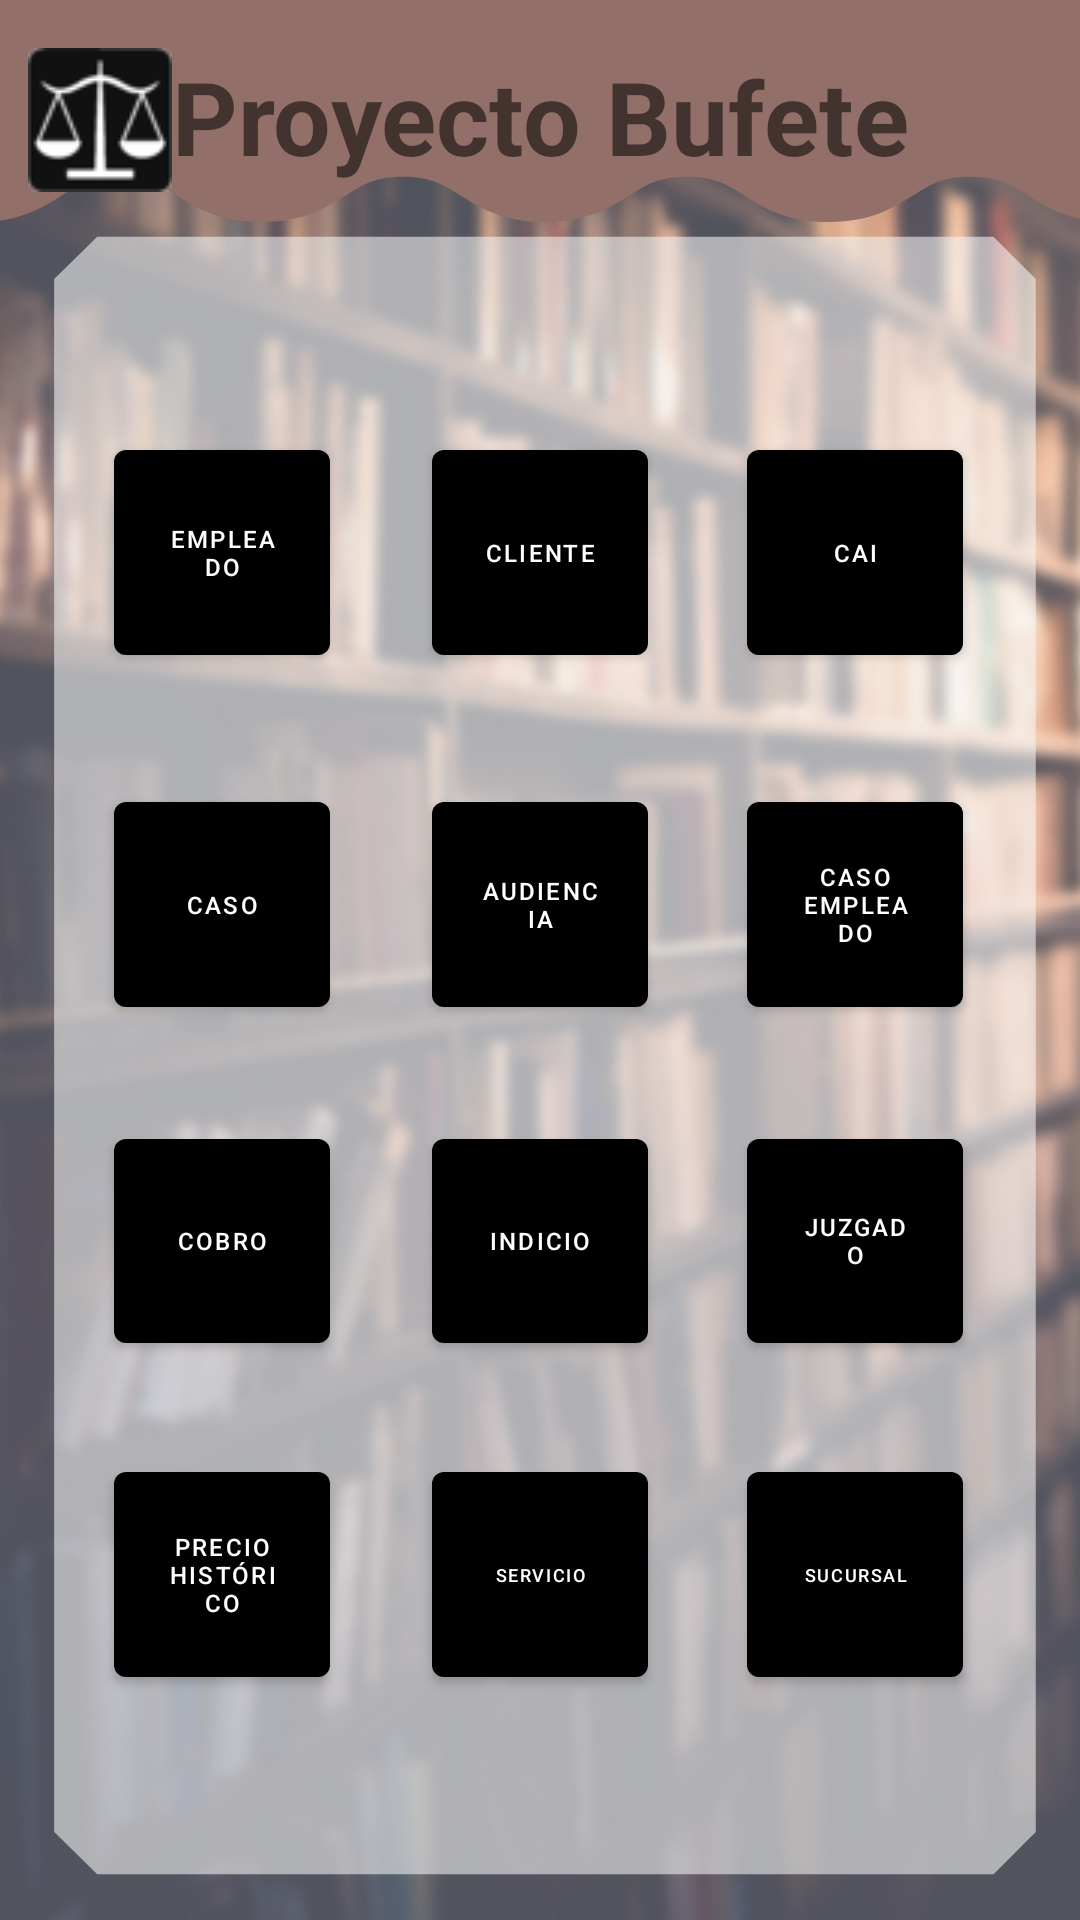

Icon bounding boxes for this 1080 × 1920 phone screenshot, format (x1, y1, x2, y2):
balanza: (28, 48, 172, 192)
